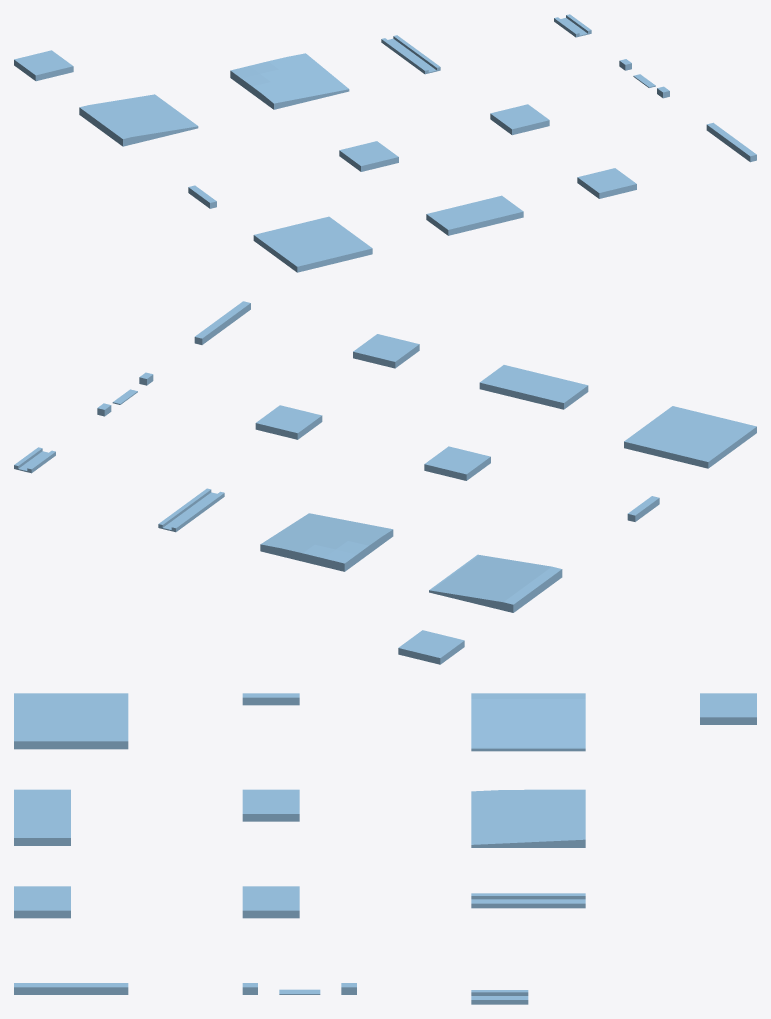
File: ProjectZ_SC20_SidewalkCurbRamp_Collision.glb
3 renders of one model, top to bottom at view 1: azimuth 30°, elevation 25°; view 2: azimuth 150°, elevation 25°; view 3: azimuth 270°, elevation 25°, orthographic. The views are drawn at different scales.
Parts seen in each view (by area): view 1: UCX_MOD_10_CornerRamp_2mX2m, UCX_MOD_01_Pavement_Tile_2mX2m, UCX_MOD_09_PedestrianRamp_2mX2m, UCX_MOD_02_Pavement_Tile_2mX1m, UCX_MOD_06_Curb_OutsideCorner_1m, UCX_MOD_13_TactilePavement_1mX1m, UCX_MOD_03_Pavement_Tile_1mX1m, UCX_MOD_07_Curb_InsideCorner_1m, UCX_MOD_04_StraightCurb_2m; view 2: UCX_MOD_01_Pavement_Tile_2mX2m, UCX_MOD_10_CornerRamp_2mX2m, UCX_MOD_09_PedestrianRamp_2mX2m, UCX_MOD_02_Pavement_Tile_2mX1m, UCX_MOD_07_Curb_InsideCorner_1m, UCX_MOD_03_Pavement_Tile_1mX1m, UCX_MOD_06_Curb_OutsideCorner_1m, UCX_MOD_13_TactilePavement_1mX1m, UCX_MOD_04_StraightCurb_2m; view 3: UCX_MOD_09_PedestrianRamp_2mX2m, UCX_MOD_10_CornerRamp_2mX2m, UCX_MOD_01_Pavement_Tile_2mX2m, UCX_MOD_02_Pavement_Tile_2mX1m, UCX_MOD_06_Curb_OutsideCorner_1m, UCX_MOD_07_Curb_InsideCorner_1m, UCX_MOD_03_Pavement_Tile_1mX1m, UCX_MOD_13_TactilePavement_1mX1m, UCX_MOD_04_StraightCurb_2m, UCX_MOD_11_DrainageGroove_2m_Grate_RightLip, UCX_MOD_11_DrainageGroove_2m_Grate_LeftLip, UCX_MOD_05_StraightCurb_1m (+1 smaller).
Boxes of the visible parts, left/top/right/bottom form: UCX_MOD_10_CornerRamp_2mX2m: left=230, top=53, right=349, bottom=109; UCX_MOD_01_Pavement_Tile_2mX2m: left=253, top=216, right=372, bottom=272; UCX_MOD_09_PedestrianRamp_2mX2m: left=79, top=94, right=198, bottom=146; UCX_MOD_02_Pavement_Tile_2mX1m: left=426, top=195, right=523, bottom=235; UCX_MOD_06_Curb_OutsideCorner_1m: left=339, top=141, right=398, bottom=171; UCX_MOD_13_TactilePavement_1mX1m: left=14, top=50, right=73, bottom=81; UCX_MOD_03_Pavement_Tile_1mX1m: left=577, top=168, right=636, bottom=198; UCX_MOD_07_Curb_InsideCorner_1m: left=490, top=104, right=549, bottom=135; UCX_MOD_04_StraightCurb_2m: left=706, top=122, right=756, bottom=162; UCX_MOD_01_Pavement_Tile_2mX2m: left=624, top=406, right=756, bottom=468; UCX_MOD_10_CornerRamp_2mX2m: left=260, top=513, right=393, bottom=571; UCX_MOD_09_PedestrianRamp_2mX2m: left=429, top=554, right=562, bottom=612; UCX_MOD_02_Pavement_Tile_2mX1m: left=479, top=365, right=588, bottom=409; UCX_MOD_07_Curb_InsideCorner_1m: left=255, top=405, right=322, bottom=439; UCX_MOD_03_Pavement_Tile_1mX1m: left=353, top=334, right=419, bottom=368; UCX_MOD_06_Curb_OutsideCorner_1m: left=424, top=446, right=490, bottom=480; UCX_MOD_13_TactilePavement_1mX1m: left=398, top=630, right=464, bottom=664; UCX_MOD_04_StraightCurb_2m: left=194, top=301, right=250, bottom=344; UCX_MOD_09_PedestrianRamp_2mX2m: left=471, top=693, right=585, bottom=751; UCX_MOD_10_CornerRamp_2mX2m: left=471, top=789, right=585, bottom=847; UCX_MOD_01_Pavement_Tile_2mX2m: left=14, top=693, right=128, bottom=749; UCX_MOD_02_Pavement_Tile_2mX1m: left=14, top=789, right=70, bottom=845; UCX_MOD_06_Curb_OutsideCorner_1m: left=242, top=789, right=299, bottom=821; UCX_MOD_07_Curb_InsideCorner_1m: left=242, top=886, right=299, bottom=918; UCX_MOD_03_Pavement_Tile_1mX1m: left=14, top=886, right=70, bottom=918; UCX_MOD_13_TactilePavement_1mX1m: left=700, top=693, right=756, bottom=724; UCX_MOD_04_StraightCurb_2m: left=14, top=983, right=128, bottom=994; UCX_MOD_11_DrainageGroove_2m_Grate_RightLip: left=471, top=901, right=585, bottom=908; UCX_MOD_11_DrainageGroove_2m_Grate_LeftLip: left=471, top=893, right=585, bottom=899; UCX_MOD_05_StraightCurb_1m: left=242, top=693, right=299, bottom=705.
Bounding box in the file's own units: 12.42 × 0.225 × 13.
